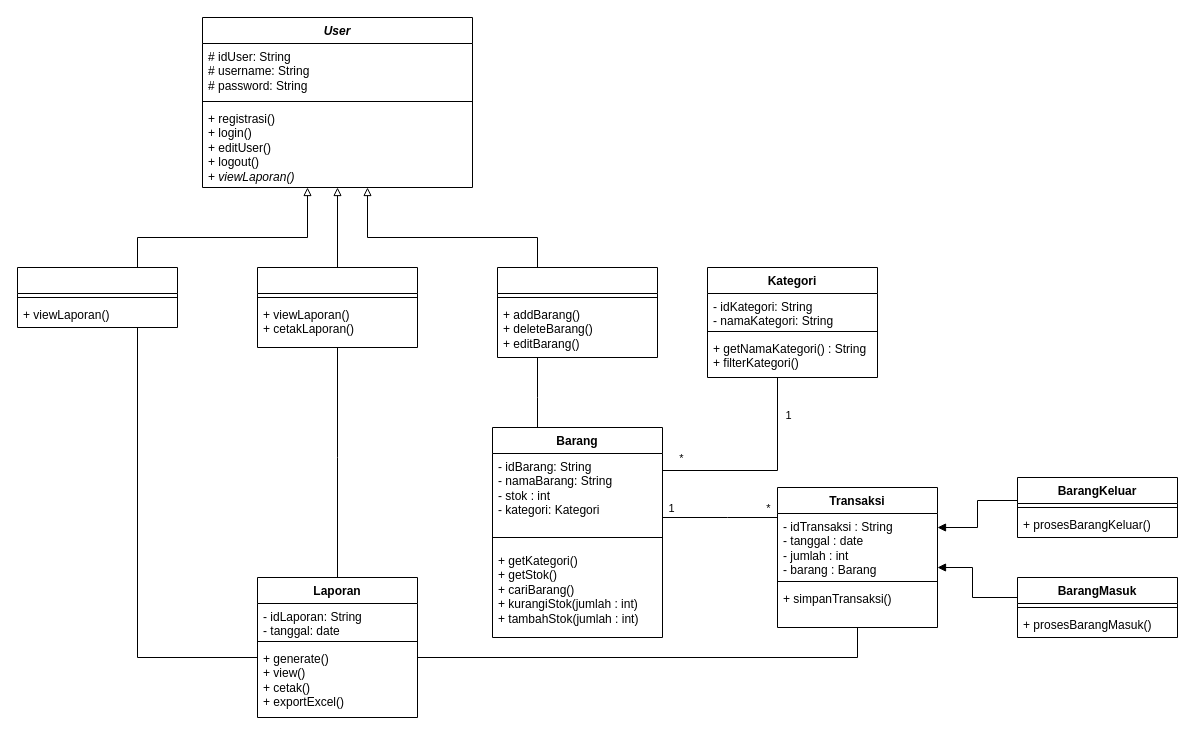
Image size: 1195x738. Some labels were removed from this diagram. Each missing label, with the box of its shape:
Admin: (496, 266, 658, 358)
Staff: (16, 266, 178, 328)
Supervisor: (256, 266, 418, 348)
